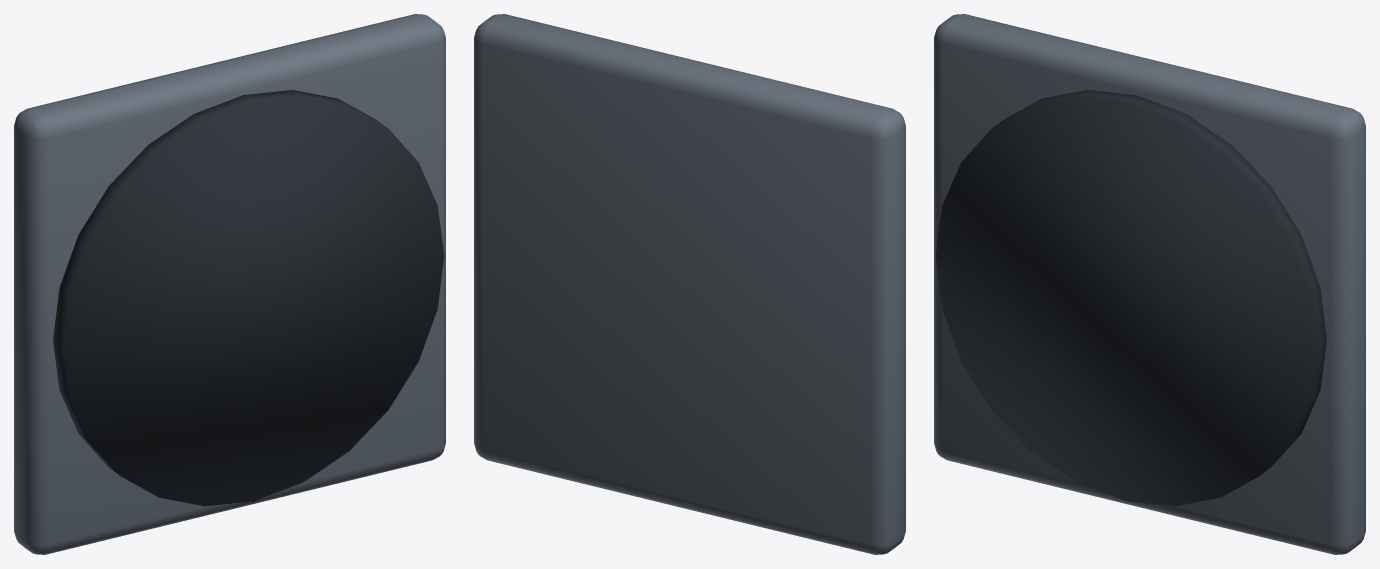
File: fan_frame.glb
3 views of the same model, side by side, from view 1: azimuth 30°, elevation 25°; view 2: azimuth 150°, elevation 25°; view 3: azimuth 330°, elevation 25° (orthographic).
Parts seen in each view (by area): view 1: Body; view 2: Body; view 3: Body.
Boxes of the visible parts, box(x1,y1,x2,y2) form: Body: box(14, 14, 445, 554); Body: box(474, 14, 905, 554); Body: box(934, 14, 1365, 554).
Bounding box in the file's own units: 1.1 × 1.1 × 0.17.
